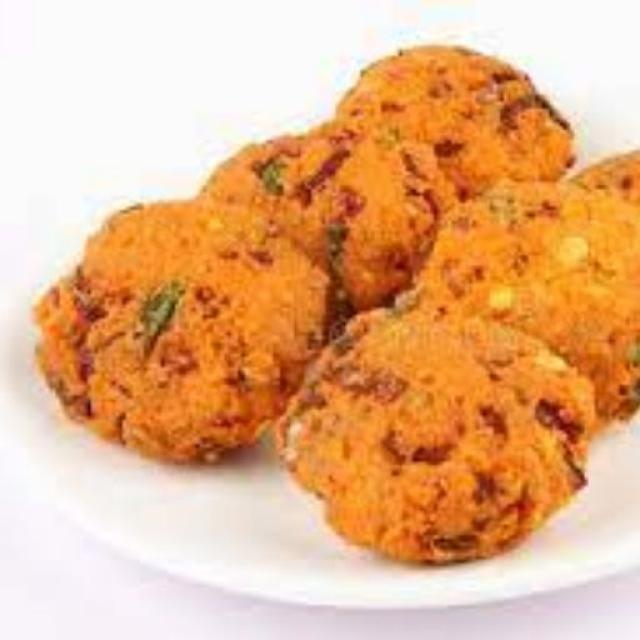dhal wade: (29, 43, 639, 568), (97, 228, 285, 423), (448, 194, 634, 382), (254, 151, 443, 289)
